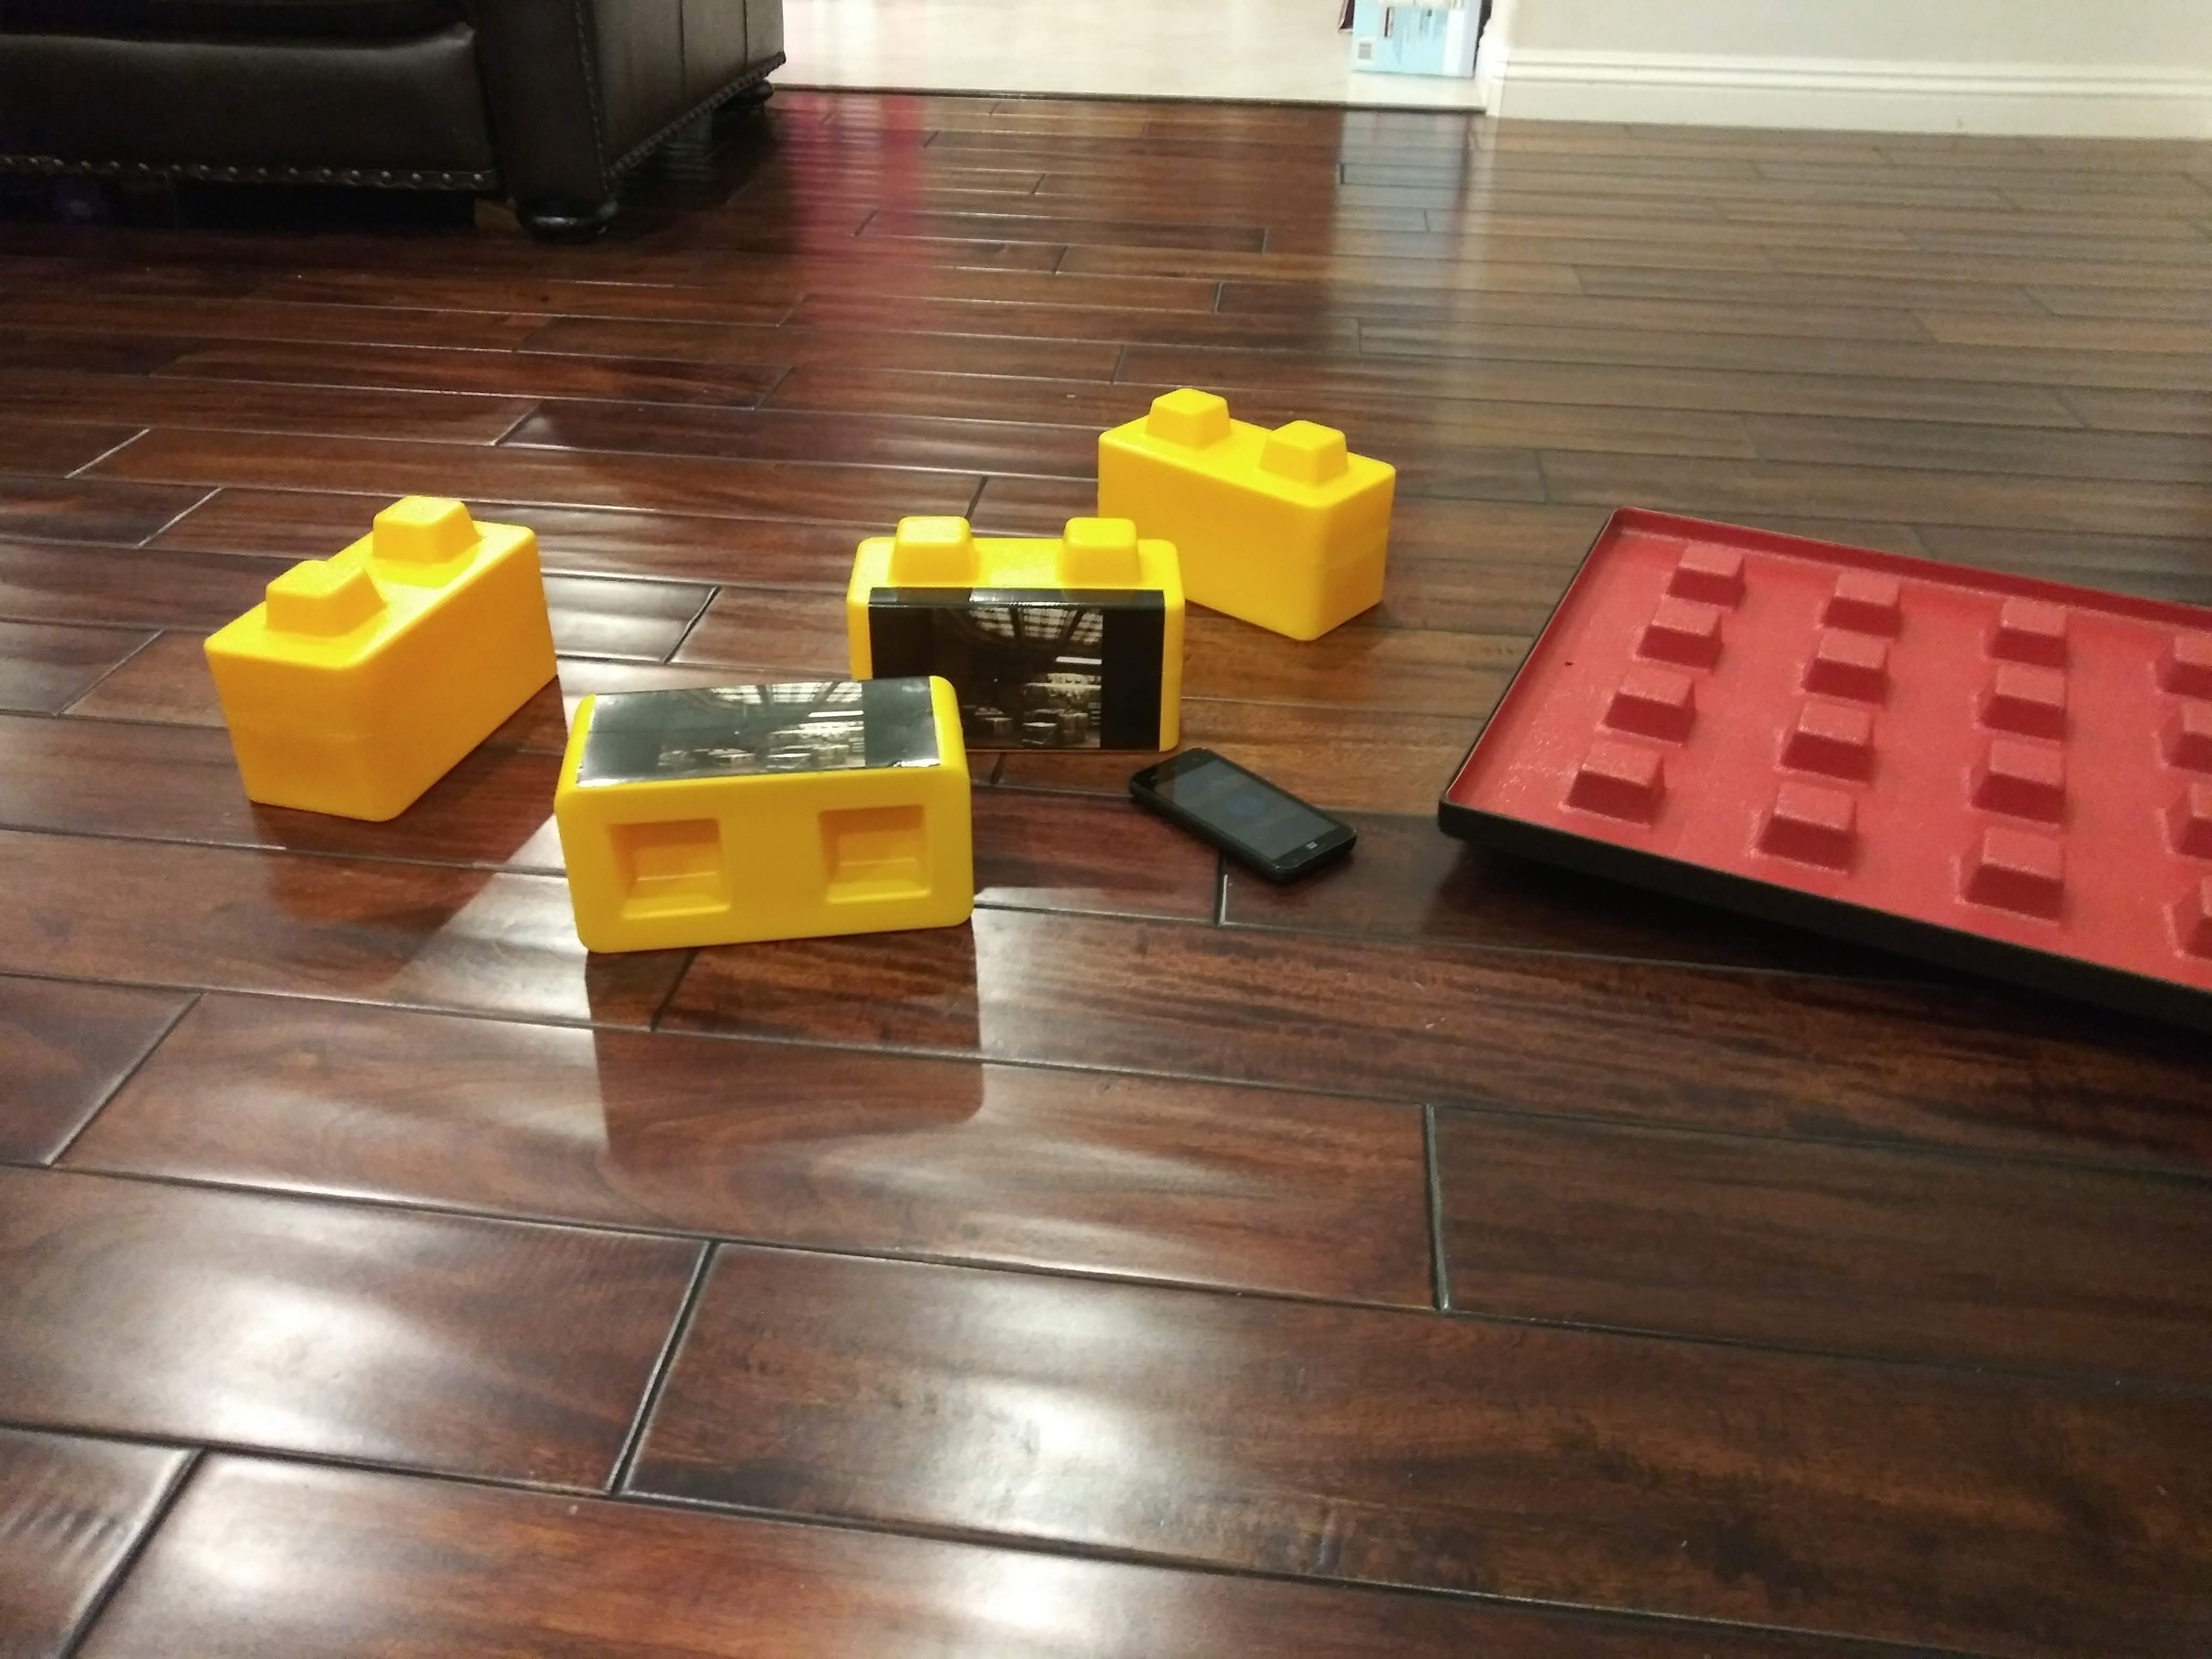skystone: (573, 701, 972, 934), (869, 544, 1176, 742)
stone: (206, 516, 523, 798), (1129, 401, 1406, 599)
